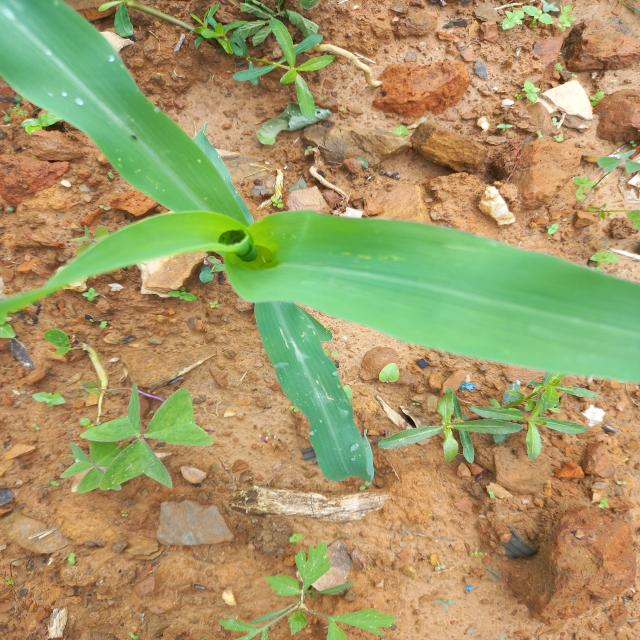maize: (0, 0, 640, 460)
weed: (178, 0, 370, 122), (354, 368, 611, 457), (1, 386, 228, 486), (209, 550, 412, 640), (494, 0, 592, 33), (556, 169, 606, 202), (585, 145, 640, 170), (614, 206, 640, 230), (580, 242, 618, 258)
